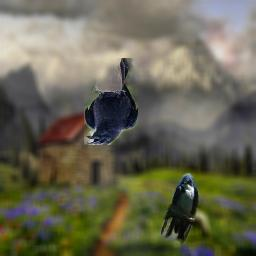Crow: (84, 58, 138, 145)
Swallow: (159, 173, 200, 246)
